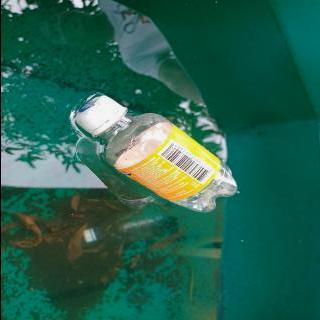bottle: (72, 93, 240, 213)
